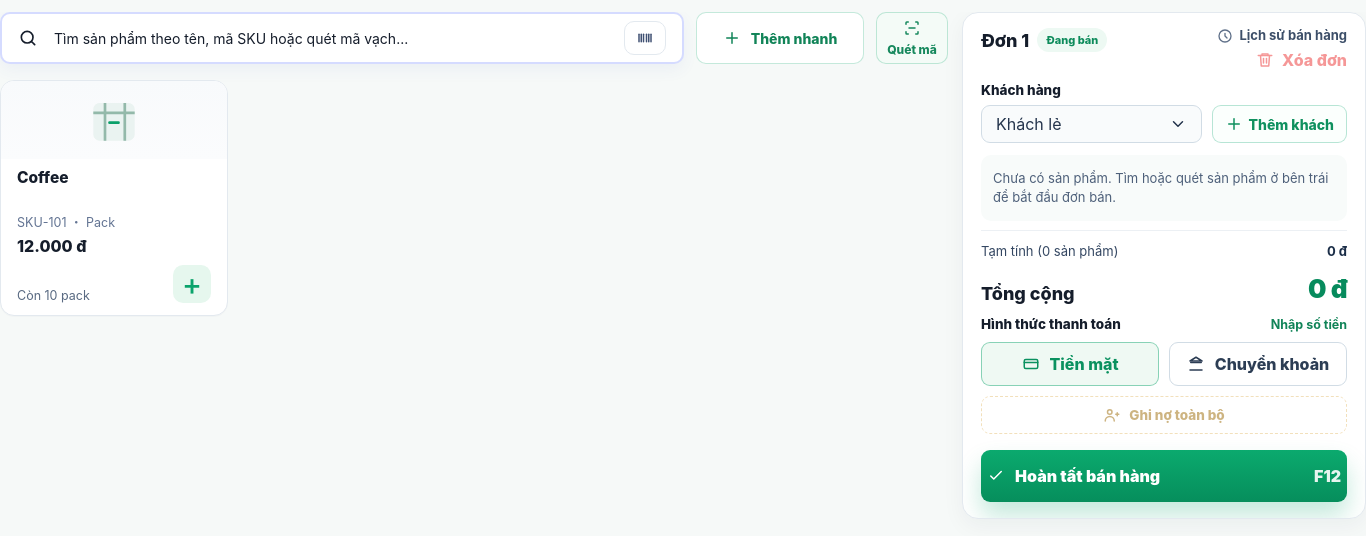
Scenario: SaleCheckoutForm › shows a product search error without leaving stale results
Type "Tea" into the field named "Tìm hoặc quét sản phẩm" at x=331, y=38, box [52,28,610,48]
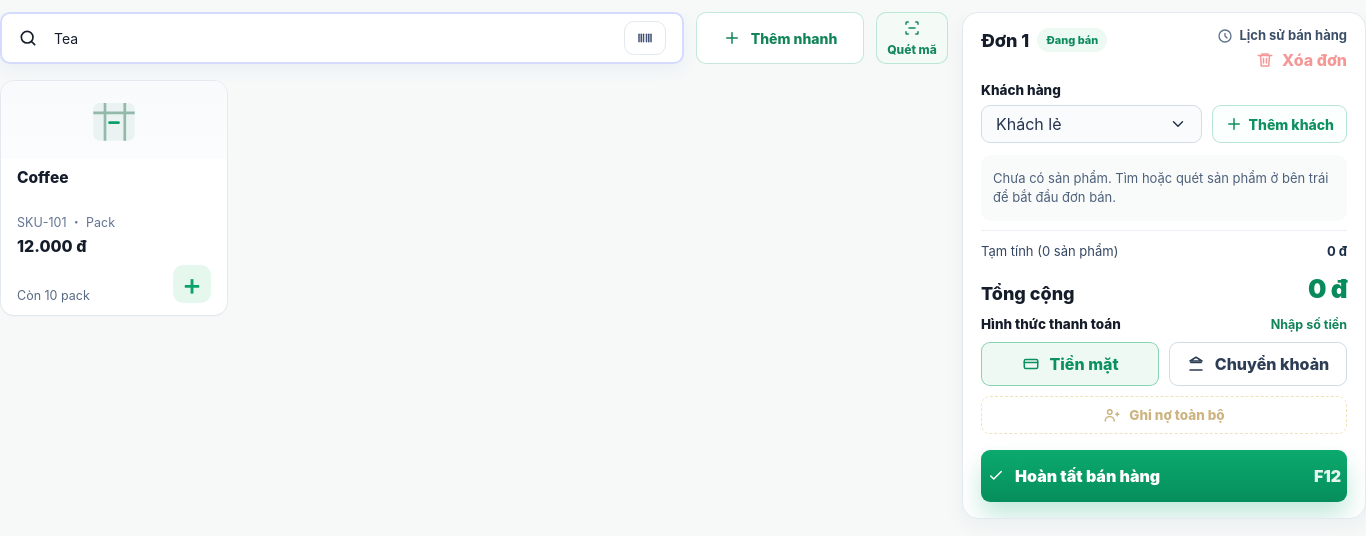
Submit the form, box [0,12,948,64]
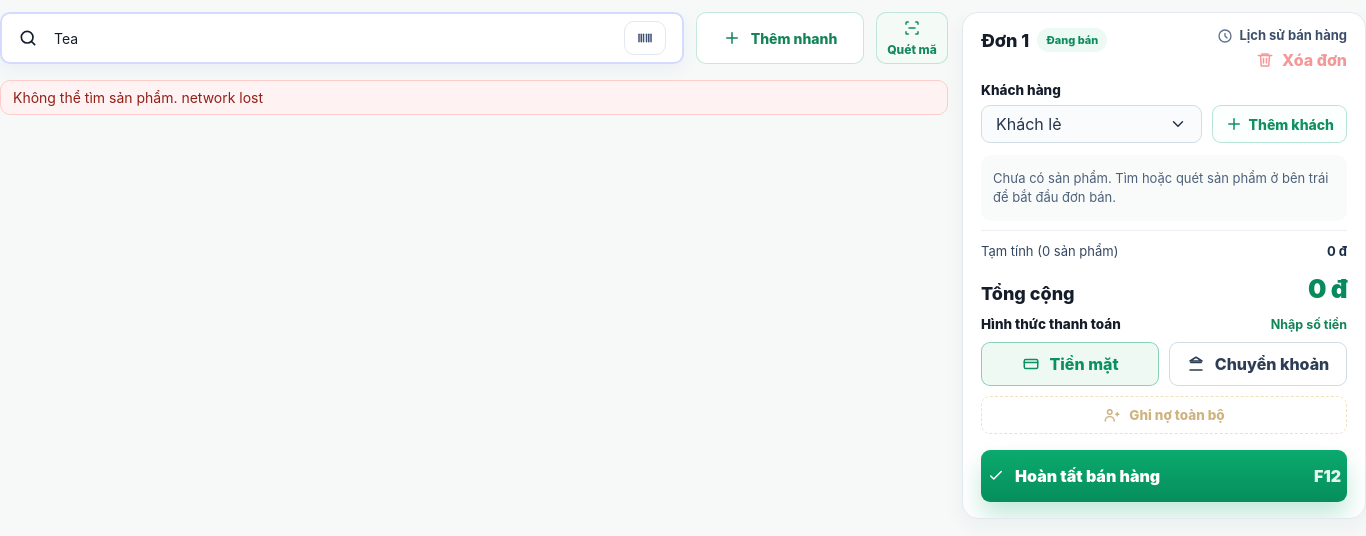
Check: the message "Không thể tìm sản phẩm. network lost" is shown, box [0,80,948,115]
